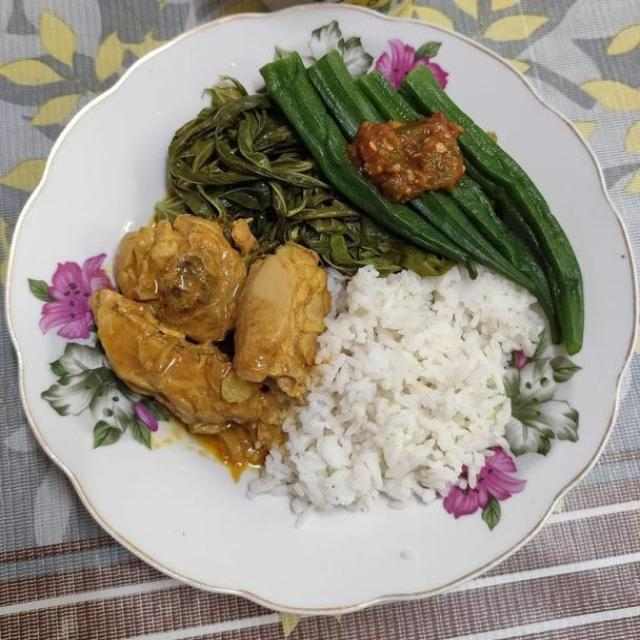Chicken: (89, 213, 326, 445)
Plate: (6, 6, 634, 609)
Rice: (243, 266, 543, 532)
Vegetables: (155, 50, 586, 357)
